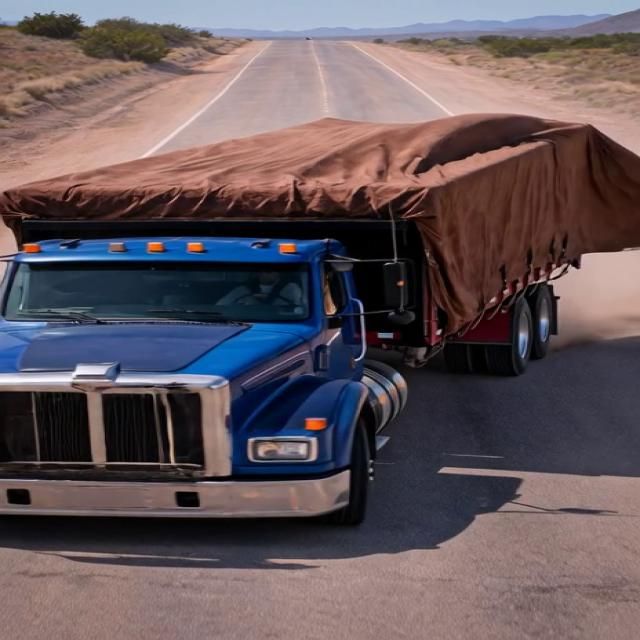Box: (2, 99, 586, 219)
Truck: (0, 75, 603, 524)
